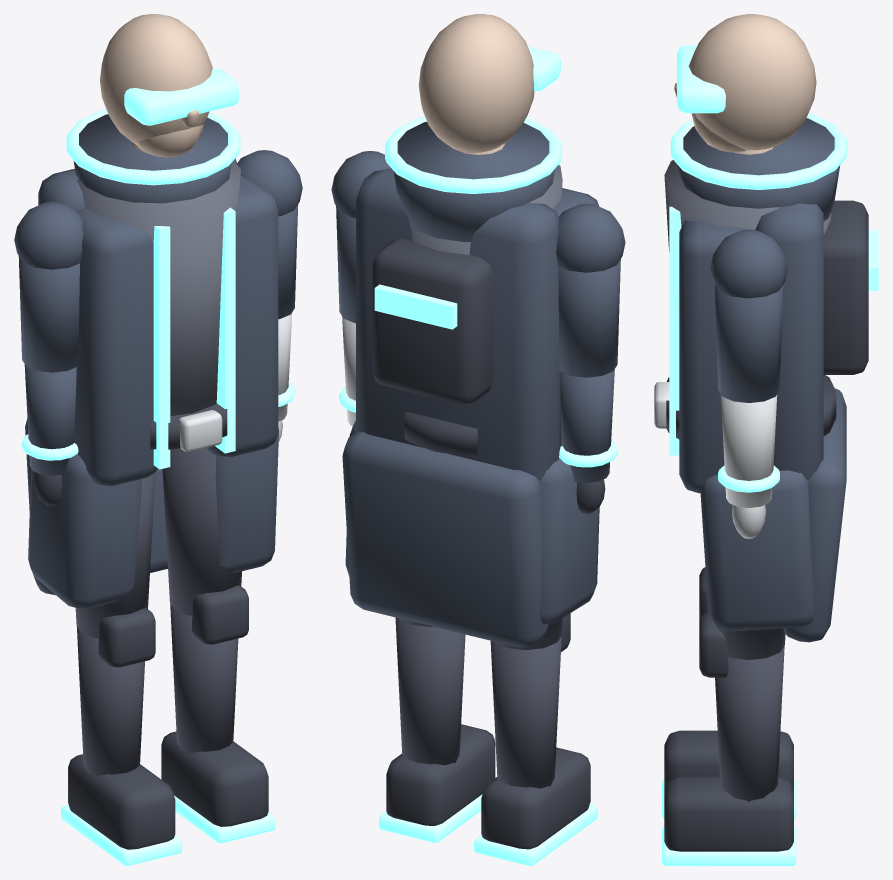
File: cyber_human.glb
The picture shows the model from 3 angles, left to right: view 1: azimuth 30°, elevation 25°; view 2: azimuth 150°, elevation 25°; view 3: azimuth 270°, elevation 25°; orthographic projection.
Visible parts, largest first — view 1: CoatLapel_-0.14, InnerTorso, CoatSkirt_-0.14, CoatLapel_0.14, Cranium, Thigh_1, Calf_-1, Calf_1, Boot_-1, Boot_1, CoatSkirt_0.14, StormCollar (+22 smaller); view 2: CoatSkirtBack, CoatBack, TechPack, Cranium, StormCollar, Calf_-1, Calf_1, CoatSkirt_-0.14, Boot_-1, Boot_1, UpperArm_-1, ForeArm_-1 (+14 smaller); view 3: CoatSkirt_0.14, Cranium, CoatBack, CoatLapel_0.14, Calf_1, Boot_1, StormCollar, TechPack, UpperArm_1, CoatSkirtBack, ForeArm_1, Shoulder_1 (+14 smaller).
Part boxes in pixels (left/top/right/bottom): CoatLapel_-0.14: left=74, top=209, right=157, bottom=485; InnerTorso: left=77, top=160, right=240, bottom=416; CoatSkirt_-0.14: left=28, top=454, right=141, bottom=608; CoatLapel_0.14: left=207, top=175, right=278, bottom=456; Cranium: left=100, top=14, right=212, bottom=144; Thigh_1: left=162, top=447, right=241, bottom=615; Calf_-1: left=76, top=625, right=144, bottom=775; Calf_1: left=170, top=603, right=238, bottom=752; Boot_-1: left=68, top=754, right=175, bottom=849; Boot_1: left=161, top=731, right=268, bottom=826; CoatSkirt_0.14: left=215, top=428, right=278, bottom=572; StormCollar: left=73, top=114, right=231, bottom=203; CoatSkirtBack: left=342, top=432, right=548, bottom=647; CoatBack: left=356, top=168, right=560, bottom=480; TechPack: left=372, top=238, right=492, bottom=404; Cranium: left=418, top=14, right=534, bottom=152; StormCollar: left=393, top=121, right=554, bottom=241; Calf_-1: left=490, top=636, right=561, bottom=788; Calf_1: left=395, top=617, right=465, bottom=765; CoatSkirt_-0.14: left=539, top=458, right=599, bottom=624; Boot_-1: left=481, top=747, right=590, bottom=849; Boot_1: left=386, top=724, right=495, bottom=825; UpperArm_-1: left=558, top=259, right=620, bottom=377; ForeArm_-1: left=560, top=369, right=614, bottom=482; CoatSkirt_0.14: left=700, top=470, right=815, bottom=631; Cranium: left=688, top=14, right=816, bottom=150; CoatBack: left=755, top=203, right=823, bottom=480; CoatLapel_0.14: left=679, top=220, right=753, bottom=493; Calf_1: left=715, top=646, right=784, bottom=801; Boot_1: left=664, top=777, right=793, bottom=851; StormCollar: left=678, top=118, right=840, bottom=220; TechPack: left=823, top=200, right=868, bottom=374; UpperArm_1: left=715, top=285, right=783, bottom=402; CoatSkirtBack: left=784, top=388, right=846, bottom=642; ForeArm_1: left=721, top=395, right=777, bottom=507; Shoulder_1: left=710, top=229, right=787, bottom=298.
Bounding box in the file's own units: 0.656 × 1.8 × 0.45.
